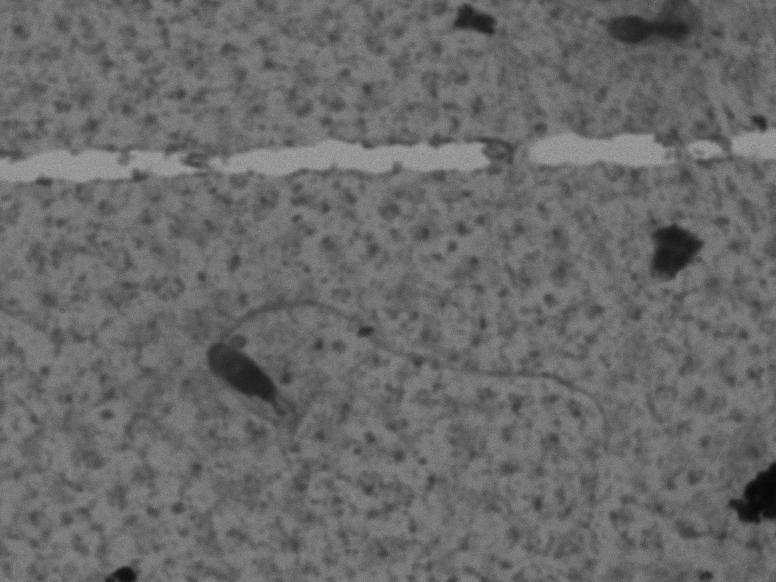Abnormal: (162, 282, 628, 539)
